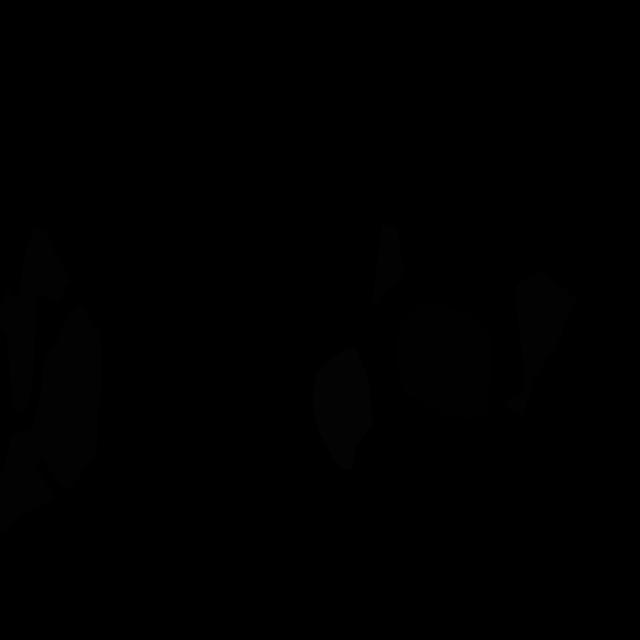cardboard: (31, 303, 102, 492), (0, 227, 71, 412), (502, 271, 577, 416), (0, 429, 55, 531), (371, 223, 404, 307)
metal: (312, 348, 372, 471)
rigid_plastic: (396, 300, 492, 420)
